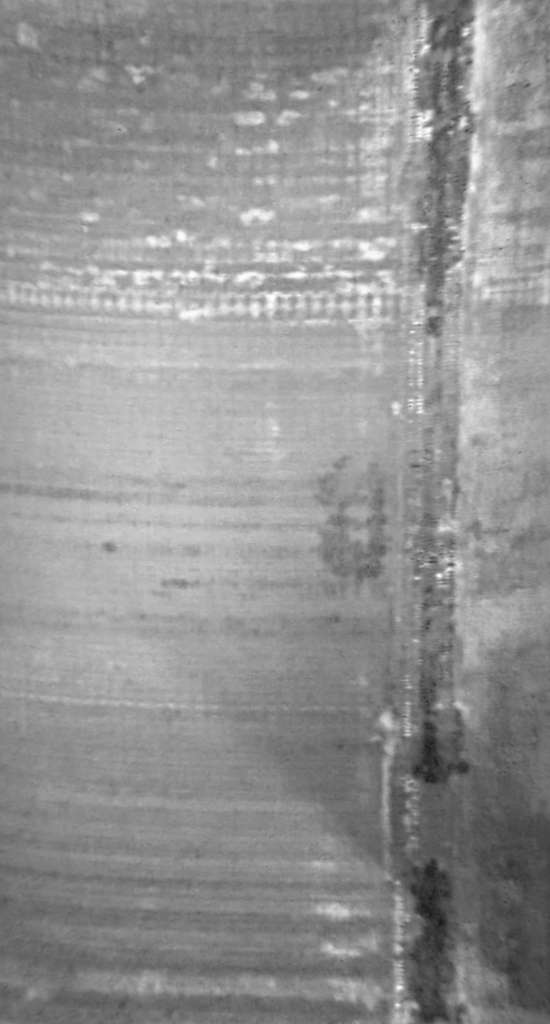splice: (391, 1, 483, 1024)
